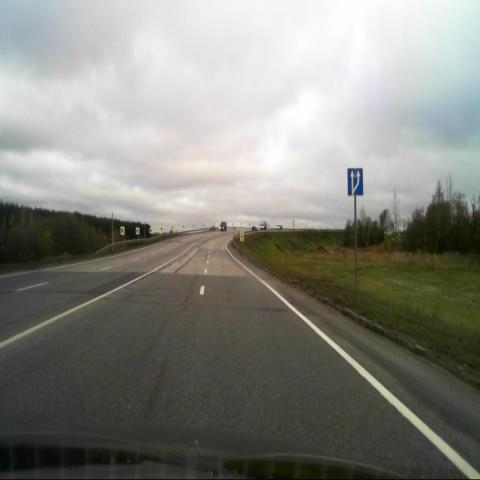5_15_3: (347, 168, 363, 197)
